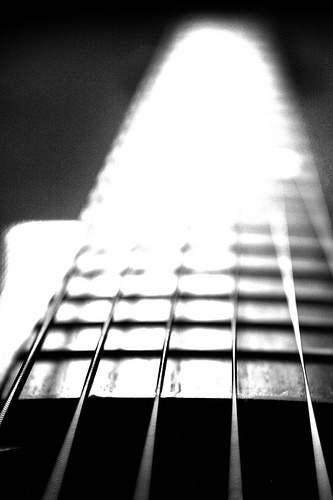guitar: (1, 10, 333, 500)
